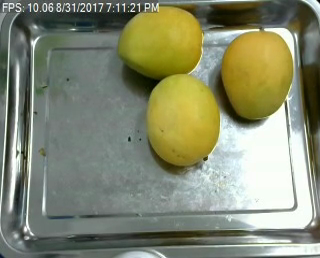Mango: (109, 2, 211, 78), (219, 21, 294, 123), (142, 73, 223, 166)
